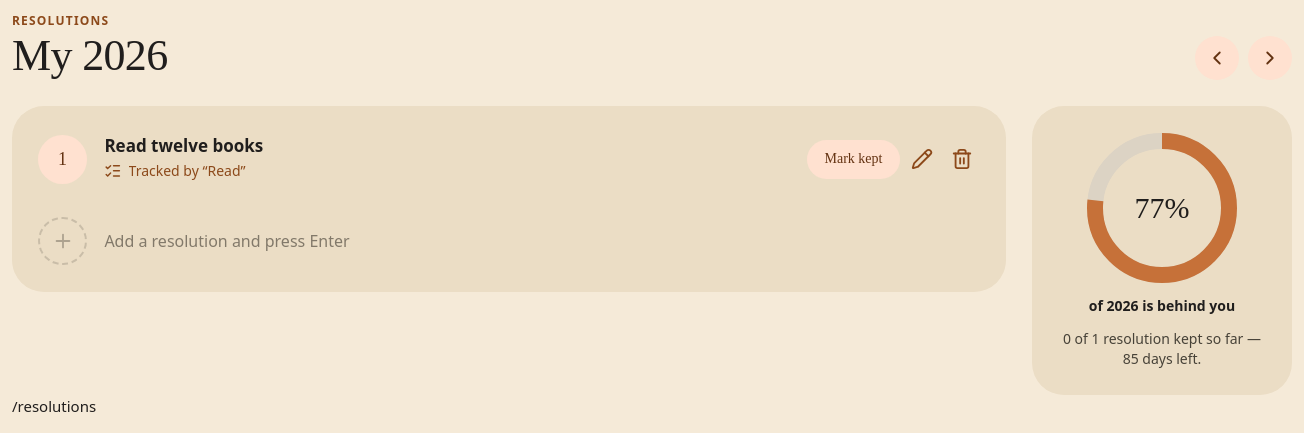
Test: the year › moves between years and keeps the year in the address
This screenshot has width=1304, height=433.
Check: the text "Read twelve books" is shown, box [104, 134, 263, 157]
Check: the button "This year" is not shown
Click the button named "Previous year": (1217, 58) [1195, 36, 1239, 80]
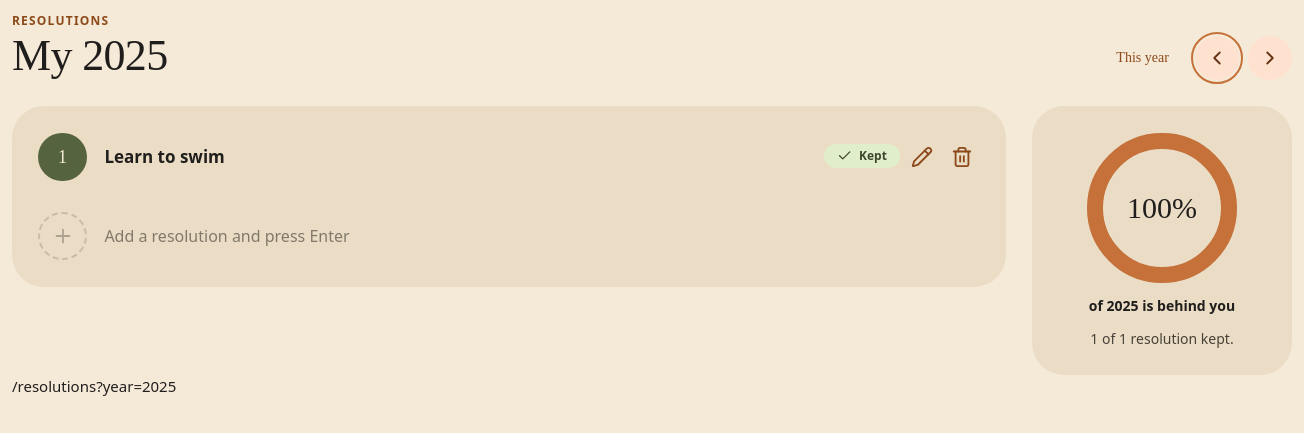
Check: the heading "My 2025" is shown, box [12, 31, 168, 80]
Check: the text "Learn to swim" is shown, box [104, 145, 225, 168]
Check: the text "Read twelve books" is gone
Click the button "This year": (1143, 58) [1099, 38, 1186, 78]
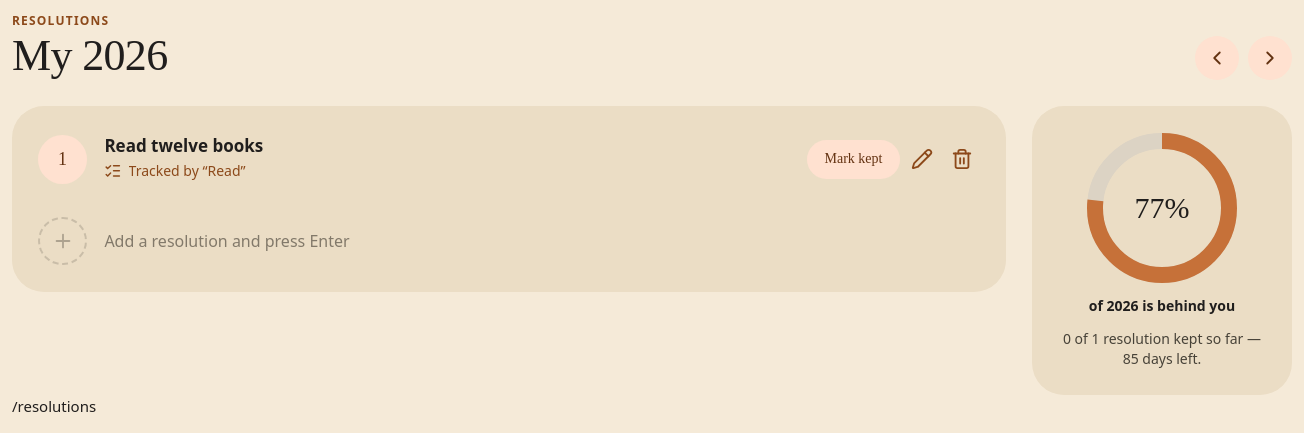
Check: the heading "My 2026" is shown, box [12, 31, 168, 80]
Check: the text with test id "location" reads "/resolutions", box [12, 396, 96, 416]
// Next year's resolutions can be made in advance.
Click the button named "Next year": (1270, 58) [1248, 36, 1292, 80]
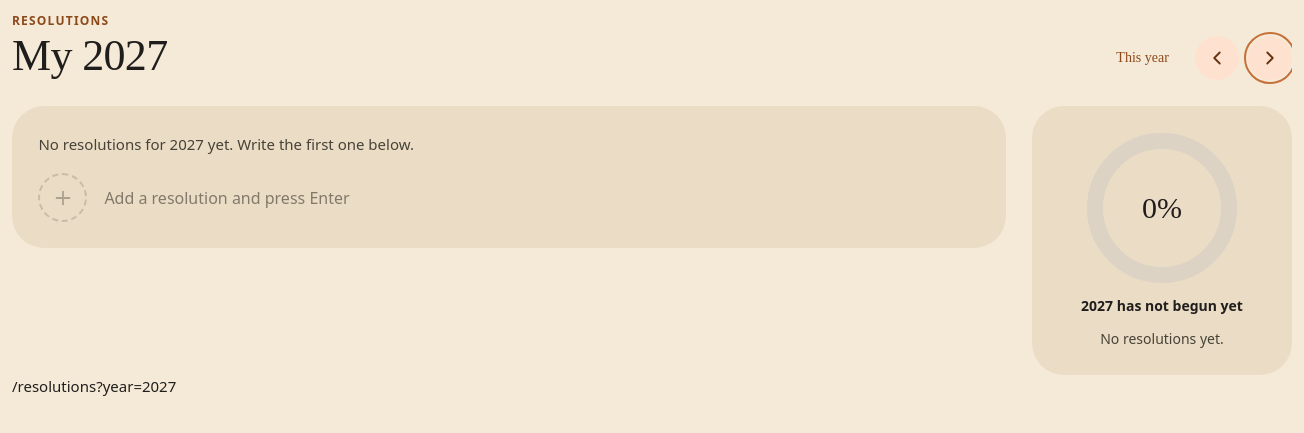
Check: the heading "My 2027" is shown, box [12, 31, 168, 80]
Check: the text "No resolutions for 2027 yet. Write the first one below." is shown, box [38, 134, 414, 154]
